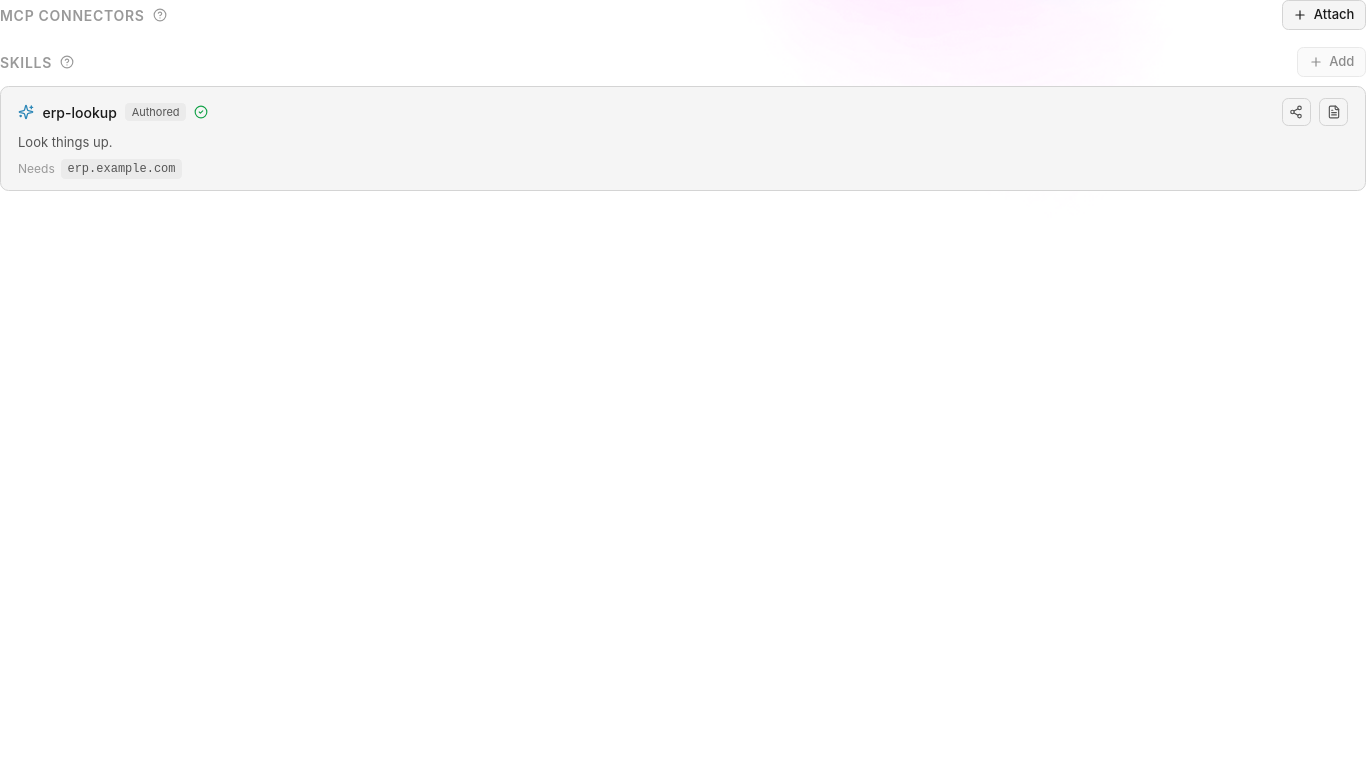
Test case: ShareSkillDialog › holds every row while the preview loads, with Share and the slot choice disabled
The image size is (1366, 768).
Click the button named "Share erp-lookup…": point(1296, 112) [1282,98,1311,126]
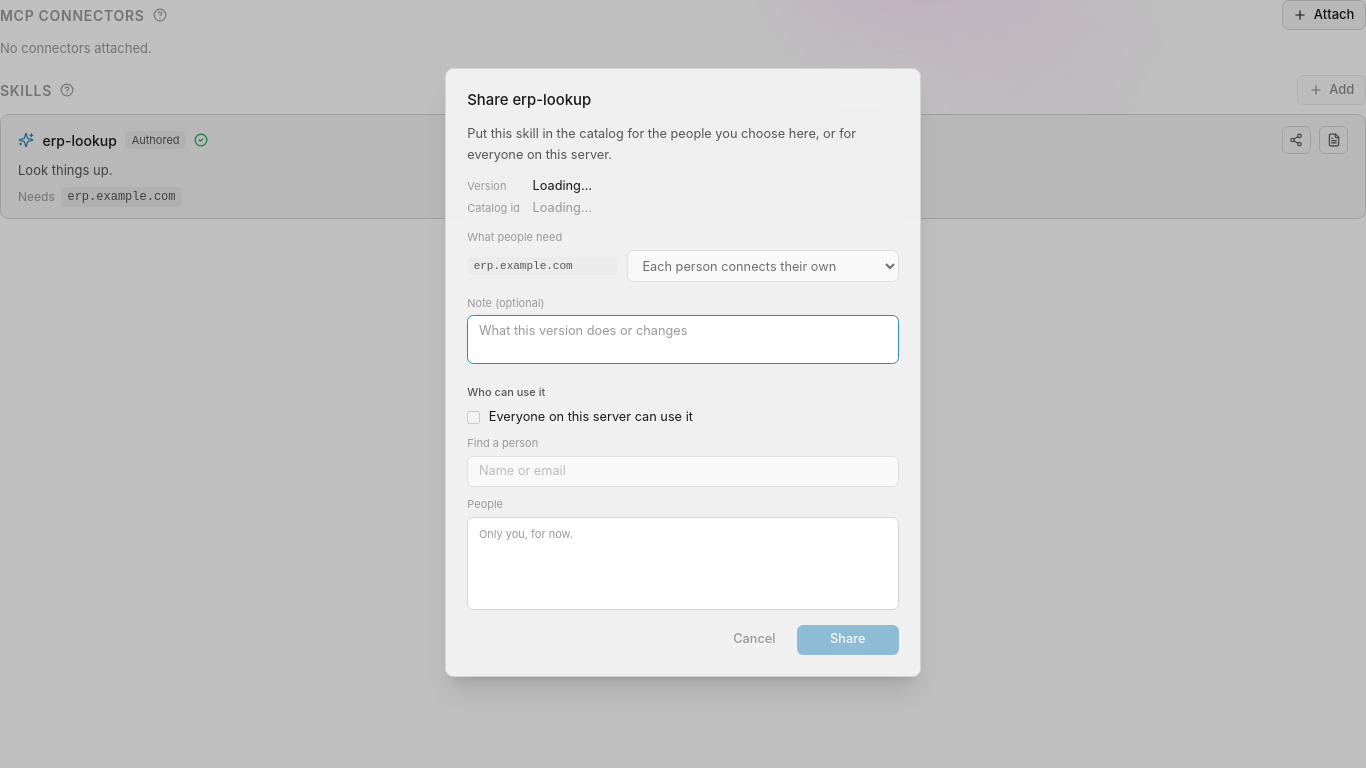
Expected: the text "Loading…" is shown 2 times, [532,178,592,193]; [532,200,592,215]
Expected: the dropdown named "What people need for erp.example.com" is disabled, [627,250,899,282]
Expected: the button "Share" is disabled, [797,625,899,655]
